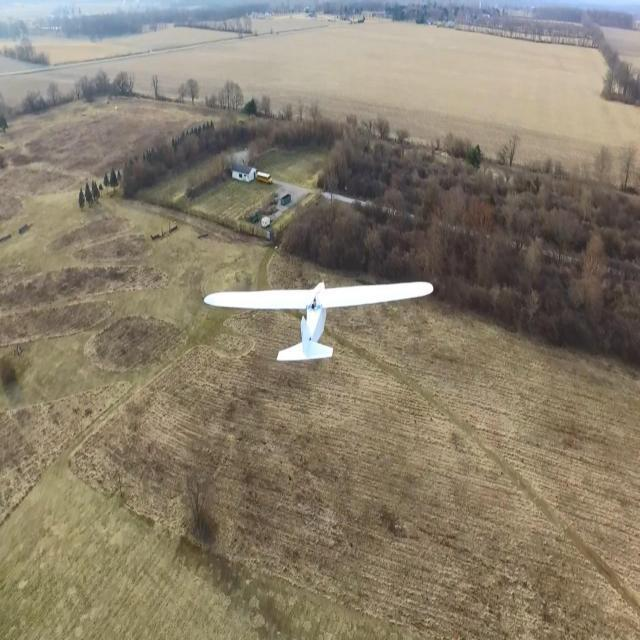UAV: (212, 248, 484, 414)
